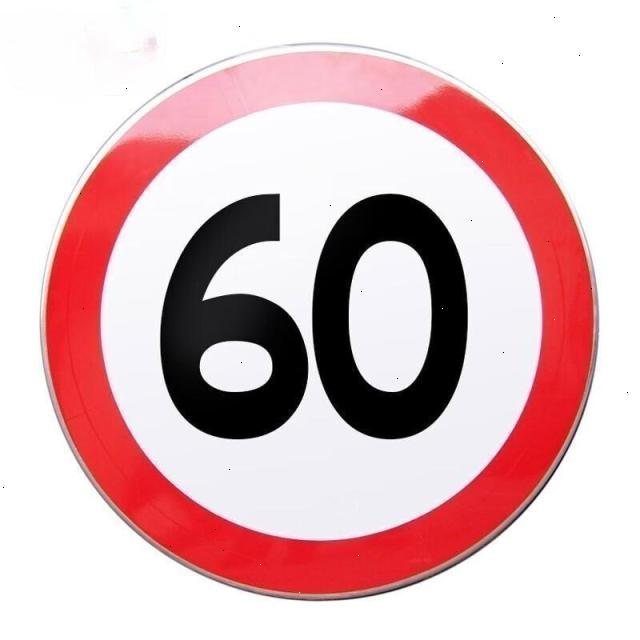speed limit 60: (38, 41, 602, 605)
